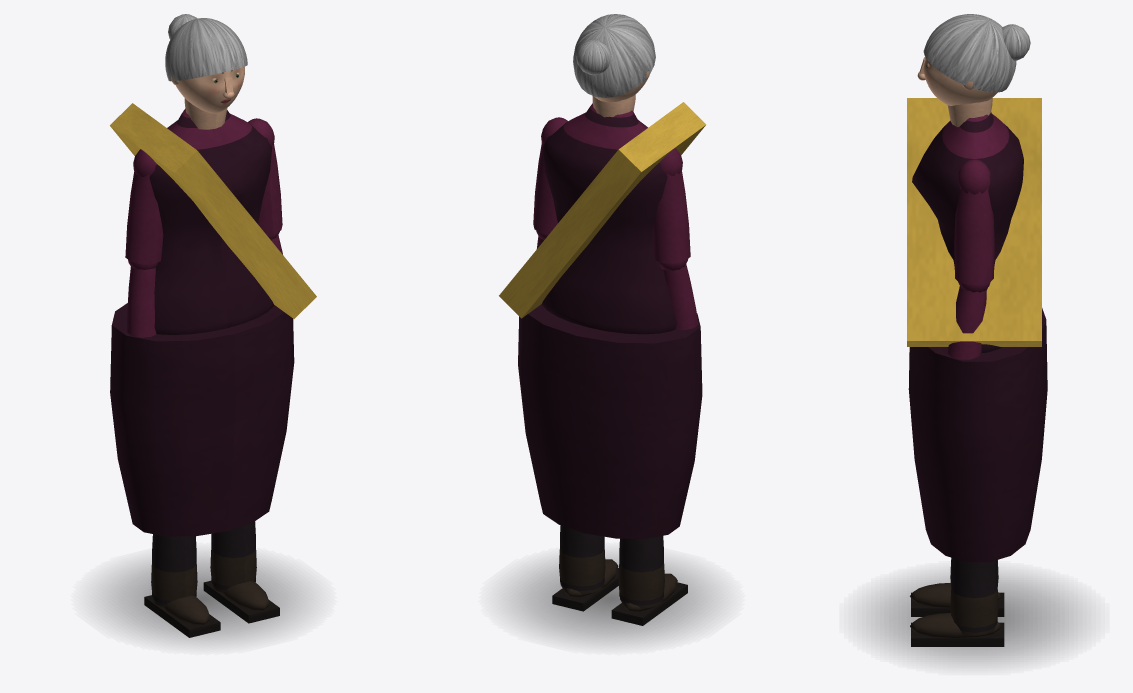
File: npc_vex.glb
The picture shows the model from 3 angles, left to right: view 1: azimuth 30°, elevation 25°; view 2: azimuth 150°, elevation 25°; view 3: azimuth 270°, elevation 25°; orthographic projection. The views are drawn at different scales.
Parts seen in each view (by area): view 1: object 7, chest, object 12, head, shinL, shinR, armL, foreL, armR; view 2: object 7, chest, object 12, head, shinL, shinR, armL, foreL, armR; view 3: chest, object 7, object 12, head, shinR, armR, foreR, shinL.
Part boxes in pixels (x1,y1,x2,y2): object 7: [110, 303, 294, 536]; chest: [110, 98, 316, 334]; object 12: [97, 554, 309, 643]; head: [165, 14, 247, 113]; shinL: [144, 534, 220, 637]; shinR: [203, 521, 279, 623]; armL: [125, 149, 163, 264]; foreL: [127, 260, 157, 337]; armR: [248, 118, 282, 235]; object 7: [518, 304, 702, 538]; chest: [499, 95, 706, 334]; object 12: [506, 554, 718, 643]; head: [573, 14, 655, 102]; shinL: [611, 536, 687, 625]; shinR: [552, 525, 618, 611]; armL: [652, 148, 690, 263]; foreL: [658, 259, 698, 330]; armR: [533, 117, 567, 234]; chest: [907, 98, 1041, 352]; object 7: [908, 308, 1047, 562]; object 12: [866, 573, 1082, 663]; head: [917, 14, 1030, 105]; shinR: [910, 558, 1004, 646]; armR: [954, 159, 994, 284]; foreR: [948, 282, 990, 359]; shinL: [910, 557, 1004, 616].
Size of the model in its own units: 0.77 by 1.79 by 0.77.
Materials: 7 (6 with a texture image).
